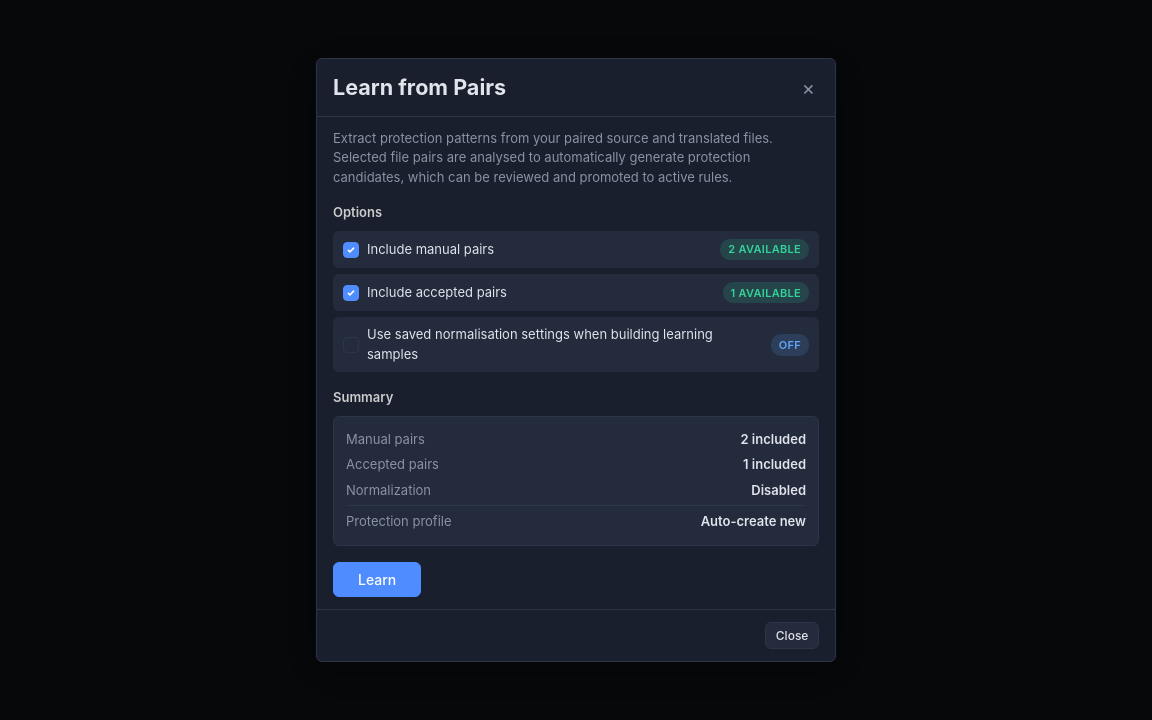
Scenario: LearnDialog › shows result summary after learning
Step 1. Click the button "Learn" → (377, 579), box [333,562,421,597]
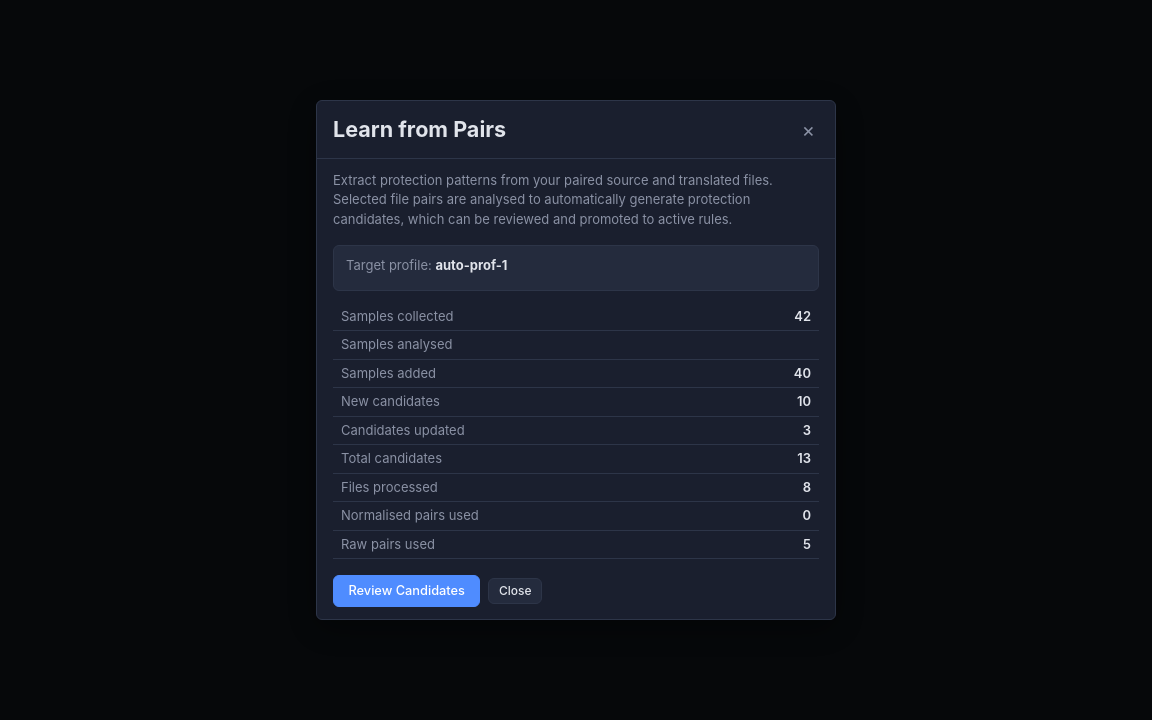
Expected: the text "Samples collected" is shown, [333,303,733,331]
Expected: the text "42" is shown, [733,303,819,331]
Expected: the text "40" is shown, [733,359,819,388]
